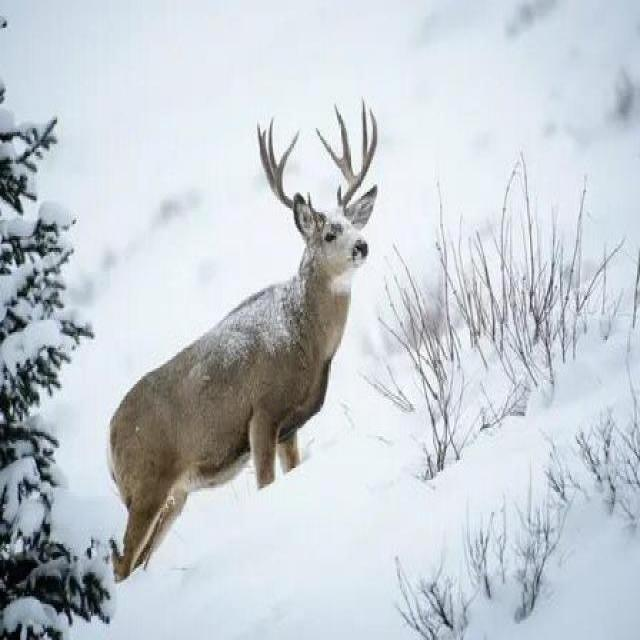deer: (52, 89, 414, 528)
